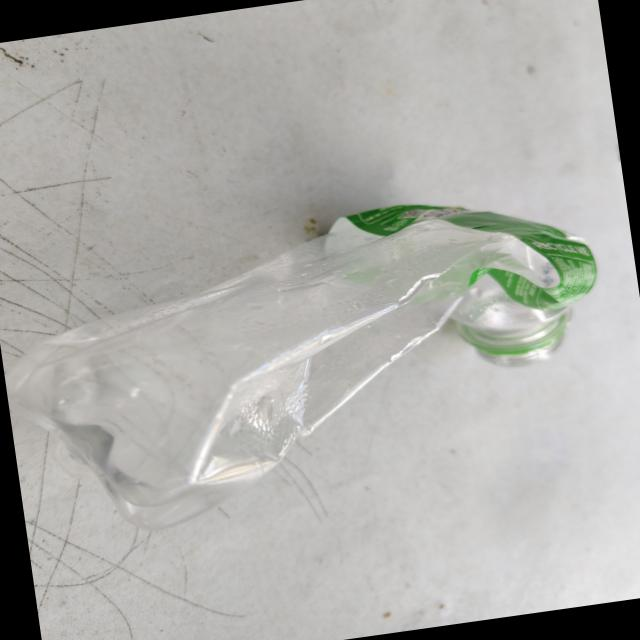Bottle: (5, 204, 597, 528)
